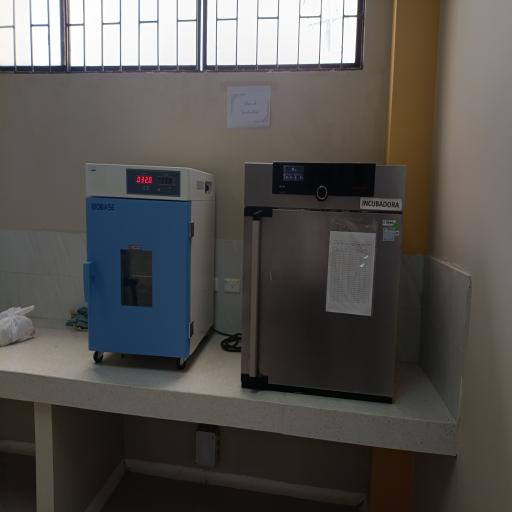Horno_Secado_Biobase: (76, 150, 224, 385)
Incubadora: (237, 150, 411, 414)
